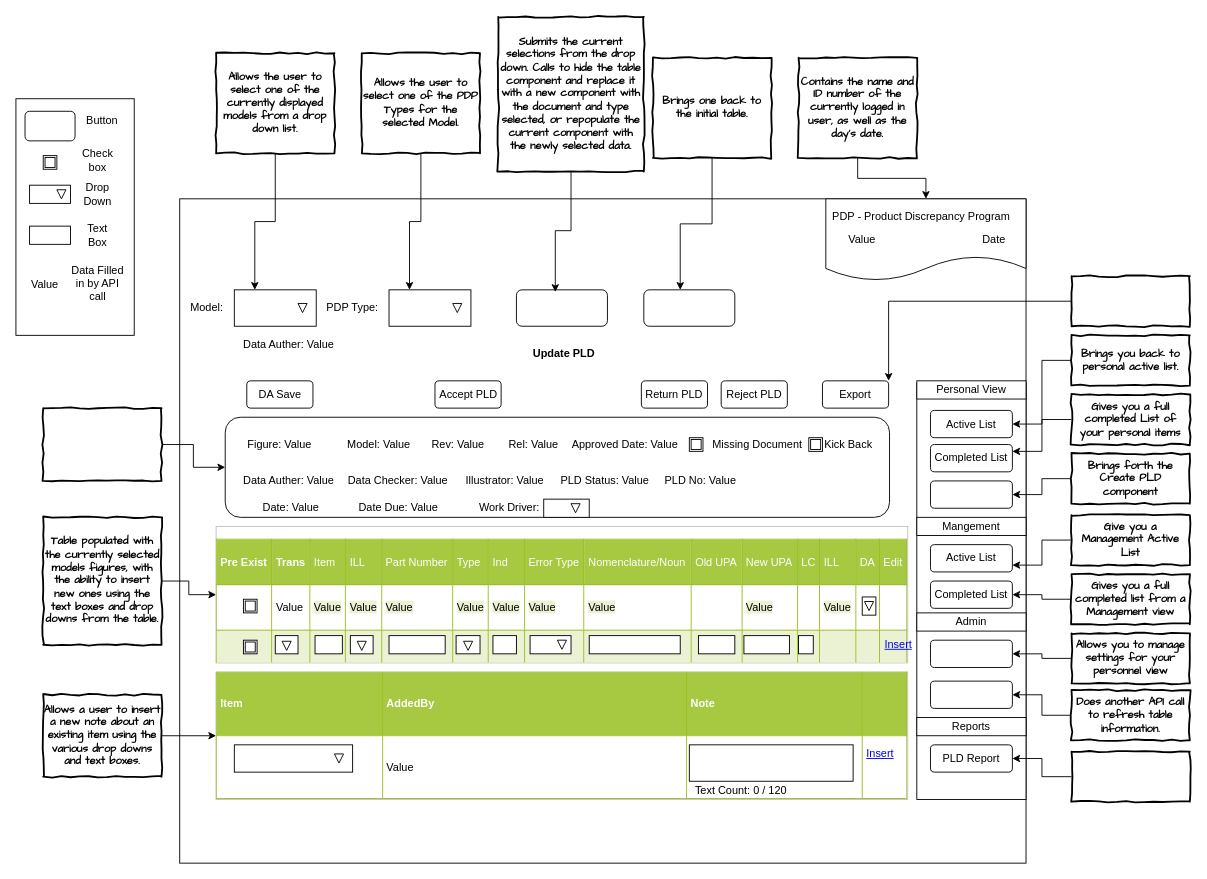
Some shapes in this 1207 by 879 pixel diagram are drawn without their labels. The shapes that lost their labels are listed below. From the top down, each one's centre as x and y in pixels, then its label:
At [561,307]: "Submit".
At [689,307]: "Home".
At [1130,301]: "Exports the information to a separate format for download".
At [102,444]: "Component populated with information about the submitted document.".
At [971,494]: "Create PLD".
At [971,653]: "Manage Personnel".
At [971,694]: "Update Dropdown".
At [1130,776]: "Creates a PLD Report".
